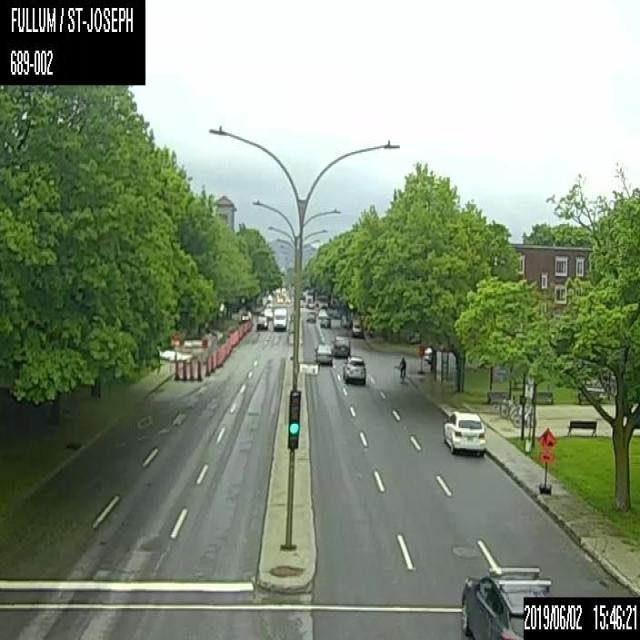construction: (536, 426, 556, 494), (417, 343, 425, 373), (172, 359, 180, 380), (188, 359, 195, 379), (203, 356, 210, 375), (181, 359, 187, 380), (195, 360, 201, 380), (210, 353, 216, 372), (216, 348, 221, 367), (202, 338, 208, 349)
cyclist: (398, 355, 406, 384)
vehicle: (457, 560, 552, 639), (440, 408, 486, 457), (343, 356, 365, 384), (314, 341, 332, 365), (331, 335, 350, 356), (273, 306, 286, 331), (351, 322, 363, 337), (319, 314, 331, 328), (256, 316, 268, 330), (423, 345, 432, 363), (240, 308, 251, 321), (305, 311, 316, 321)
